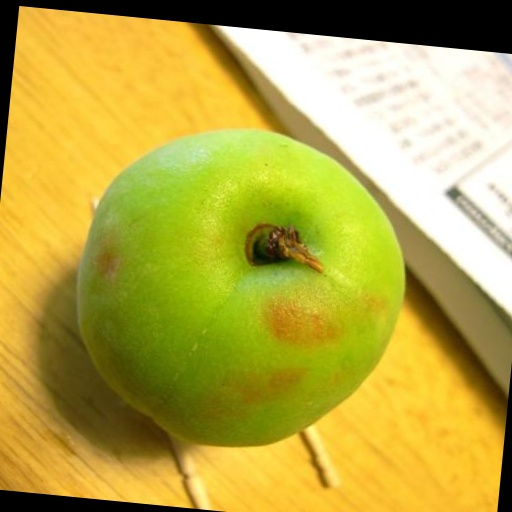fruit: (77, 130, 404, 445)
